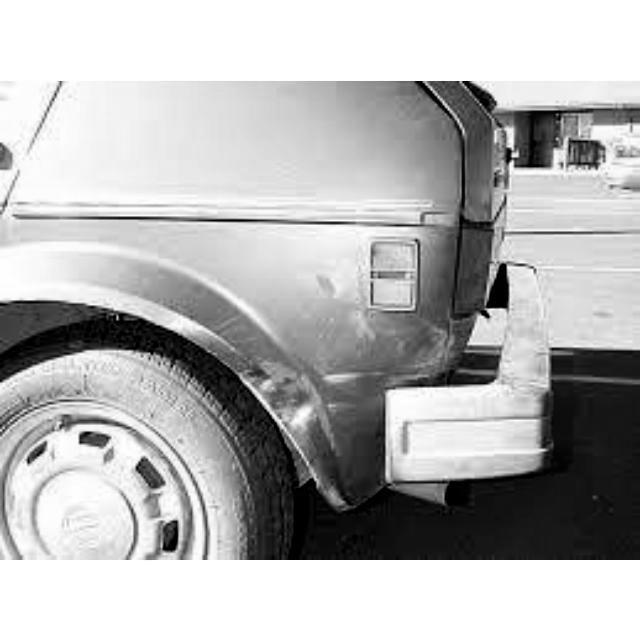rear-bumper-dent: (119, 204, 452, 480)
